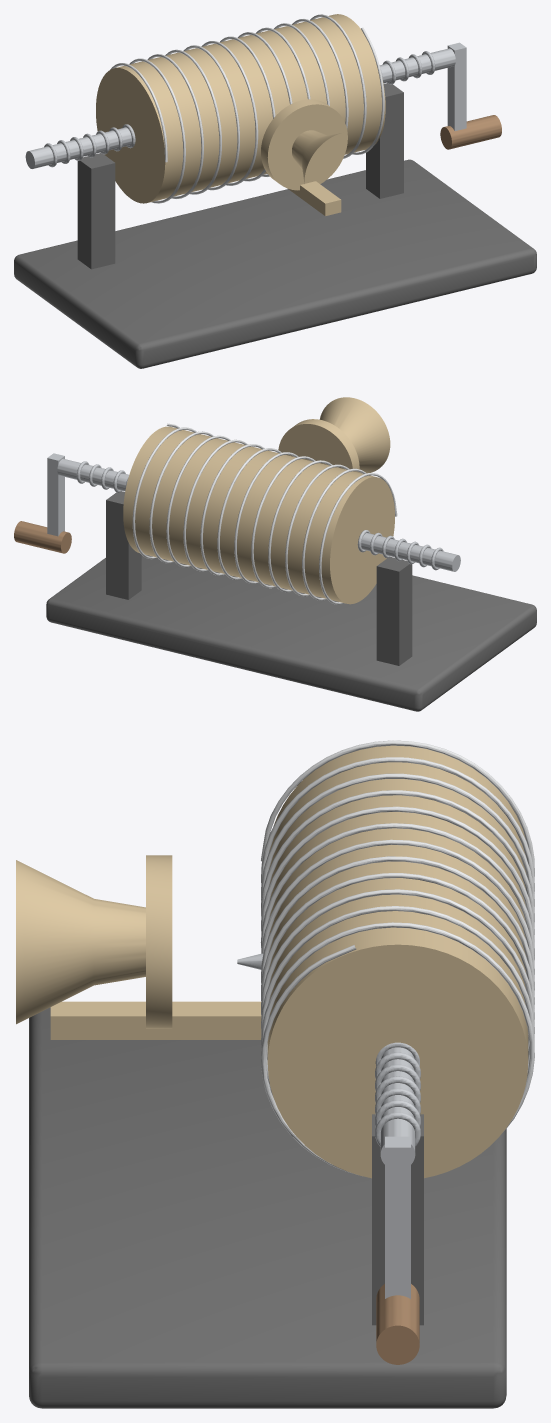
Rendered from phonograph.glb.
3 views of the same model, one above another, from view 1: azimuth 30°, elevation 25°; view 2: azimuth 150°, elevation 25°; view 3: azimuth 270°, elevation 25° (orthographic). The views are drawn at different scales.
Visible parts, largest first — view 1: base, cylinder, diaphragm, screw, crank, mouthpiece; view 2: base, cylinder, screw, mouthpiece, diaphragm, crank; view 3: base, cylinder, mouthpiece, diaphragm, crank, screw.
Part boxes in pixels (<box>): base: <box>14,83,536,368</box>; cylinder: <box>96,14,385,203</box>; diaphragm: <box>261,99,347,215</box>; screw: <box>25,48,455,168</box>; crank: <box>440,42,501,149</box>; mouthpiece: <box>292,130,341,183</box>; base: <box>46,491,536,711</box>; cylinder: <box>123,423,397,604</box>; screw: <box>57,458,460,571</box>; mouthpiece: <box>319,397,390,473</box>; diaphragm: <box>278,419,359,472</box>; crank: <box>14,453,71,553</box>; base: <box>29,1007,506,1408</box>; cylinder: <box>260,740,534,1178</box>; mouthpiece: <box>16,860,145,1024</box>; diaphragm: <box>50,855,263,1039</box>; crank: <box>376,1136,419,1364</box>; screw: <box>375,1042,420,1164</box>.
Bounding box in the file's own units: 2.33 × 0.996 × 1.2.
